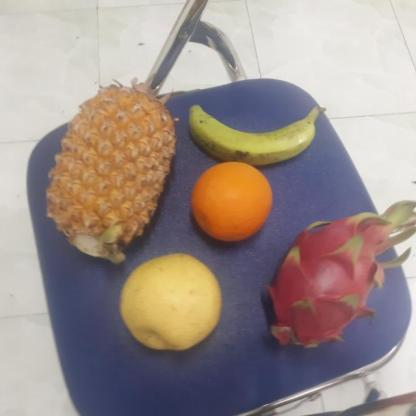banana: (180, 102, 312, 164)
orange: (188, 158, 272, 243)
pear: (116, 256, 222, 352)
pineapple: (48, 86, 171, 262)
pitaya: (252, 219, 387, 350)
